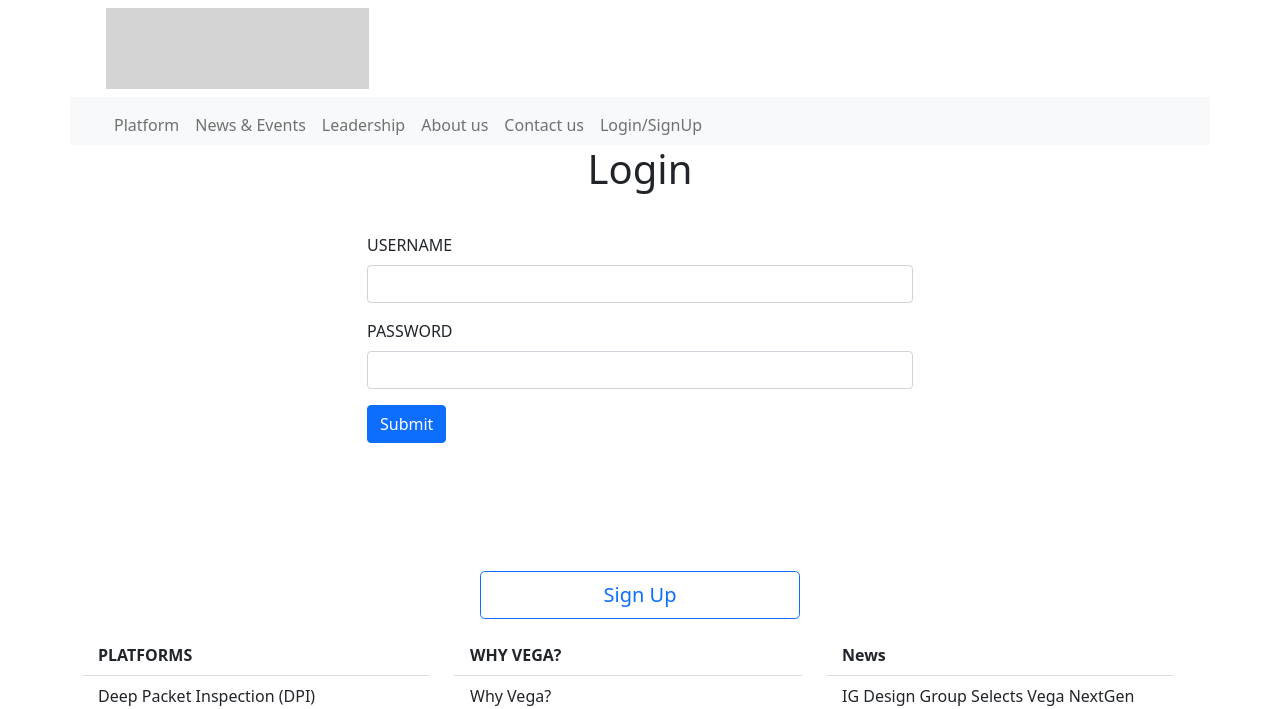
Login › form › displays error message when password field is unfilled
In the field labelled "USERNAME": [640, 284] box [367,265,913,303], type "royobannon@chon.com"
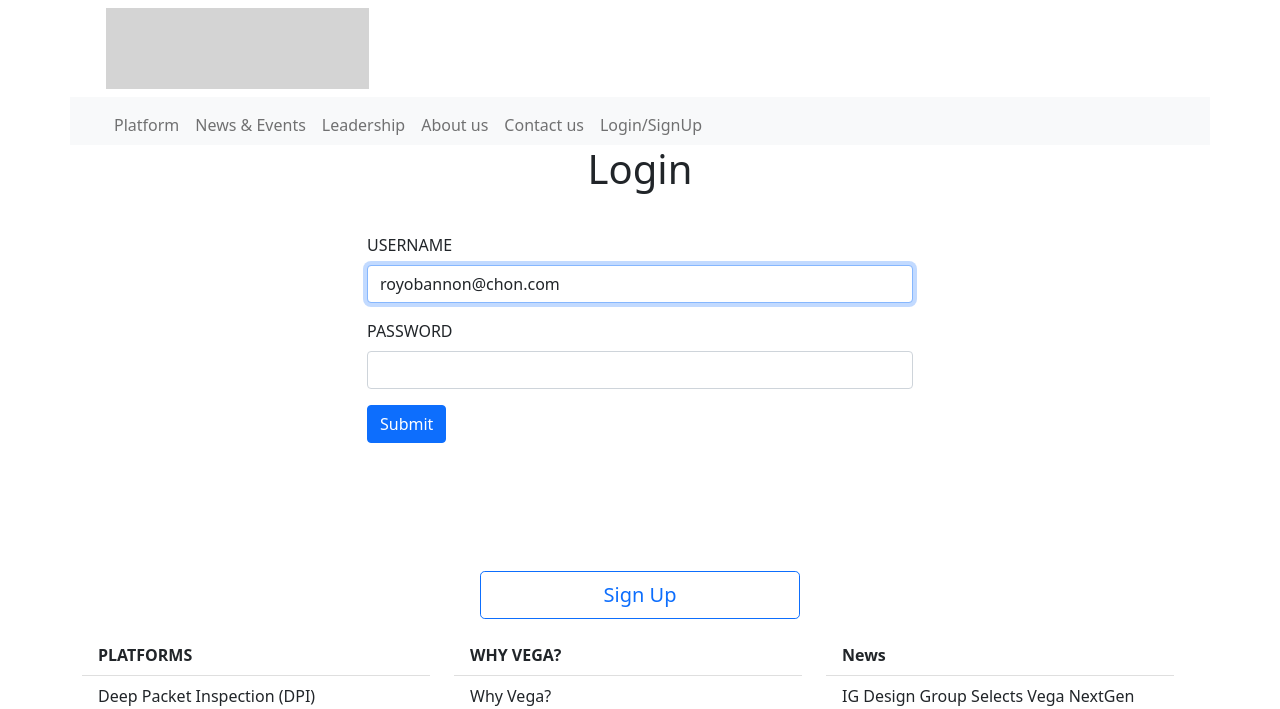
Click the button "Submit": [407, 424] box [367,405,446,443]
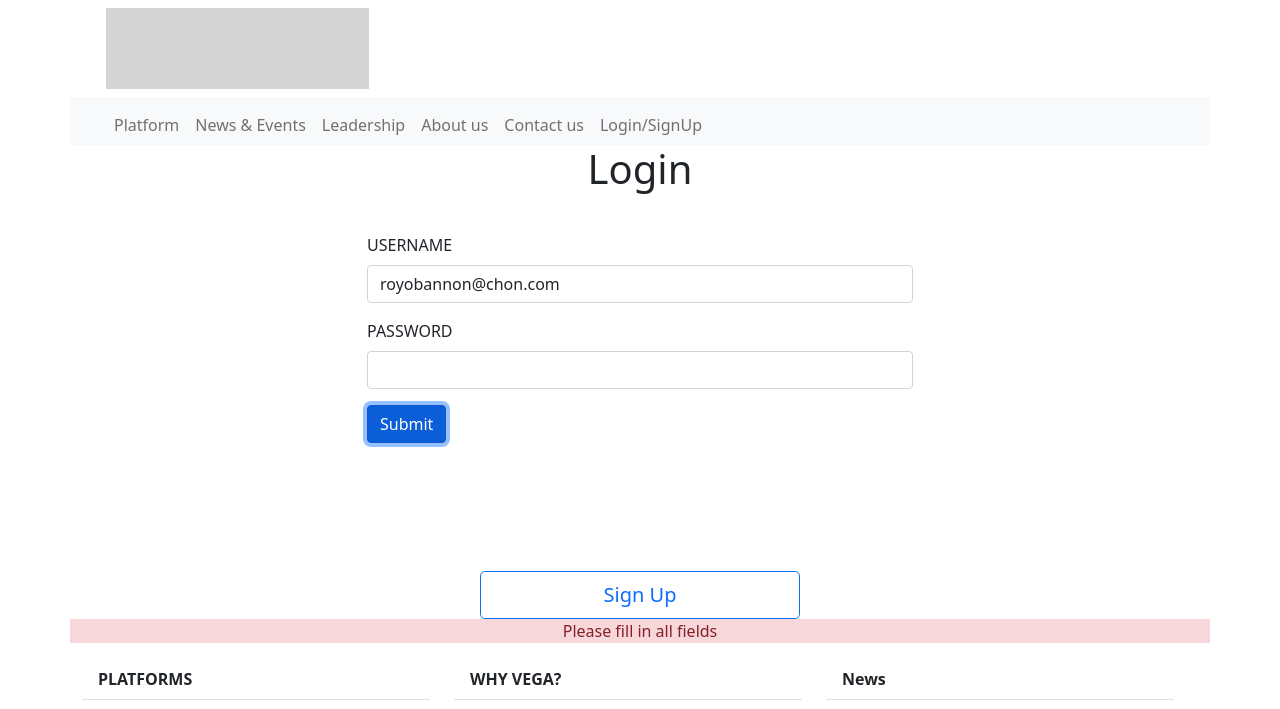
Check: the text "Please fill in all fields" is shown, box [70,619,1210,643]
